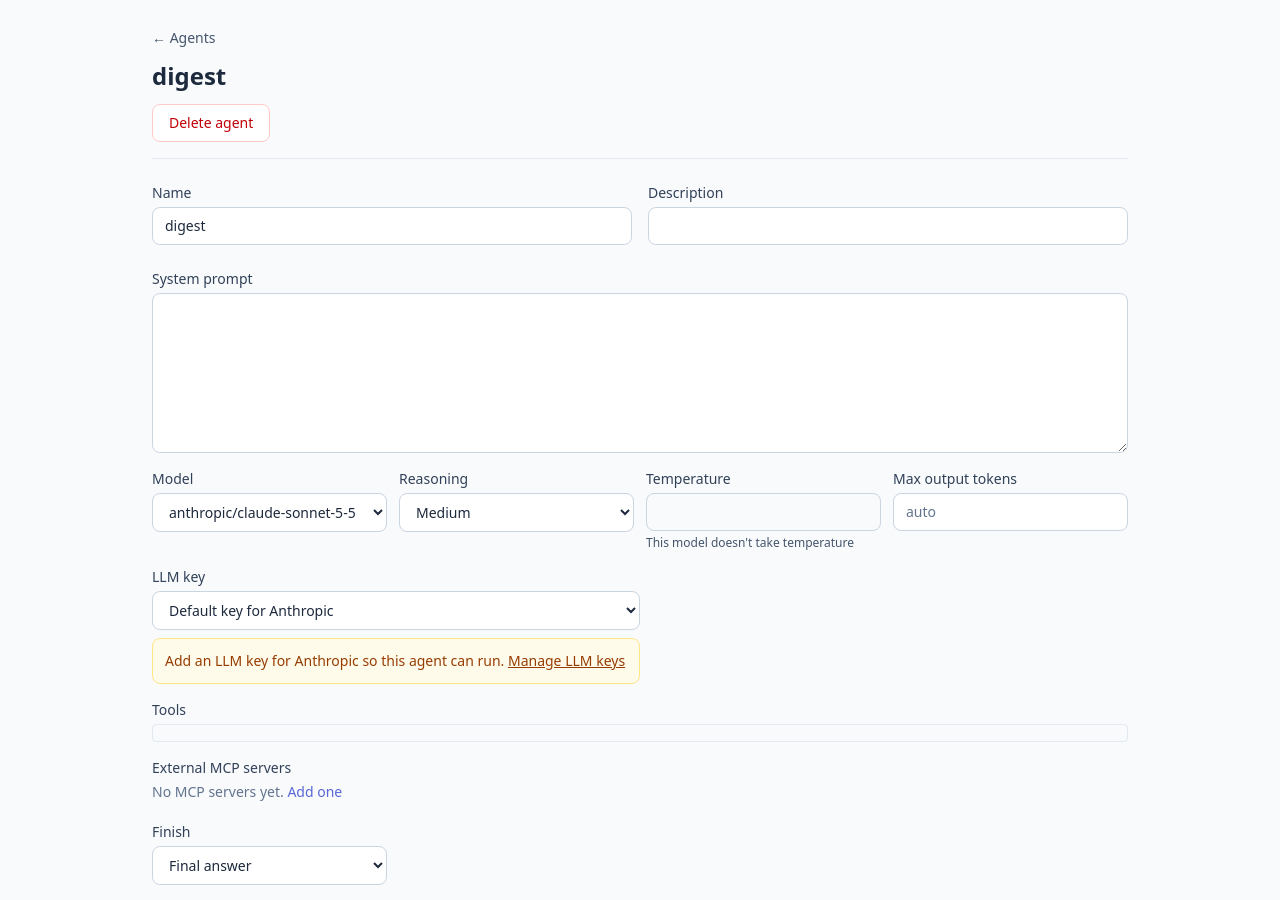
Test: AgentEditor › asks before leaving a dirty agent
Type "!" into the field labelled "Name" at (392, 226), box [152,207,632,245]
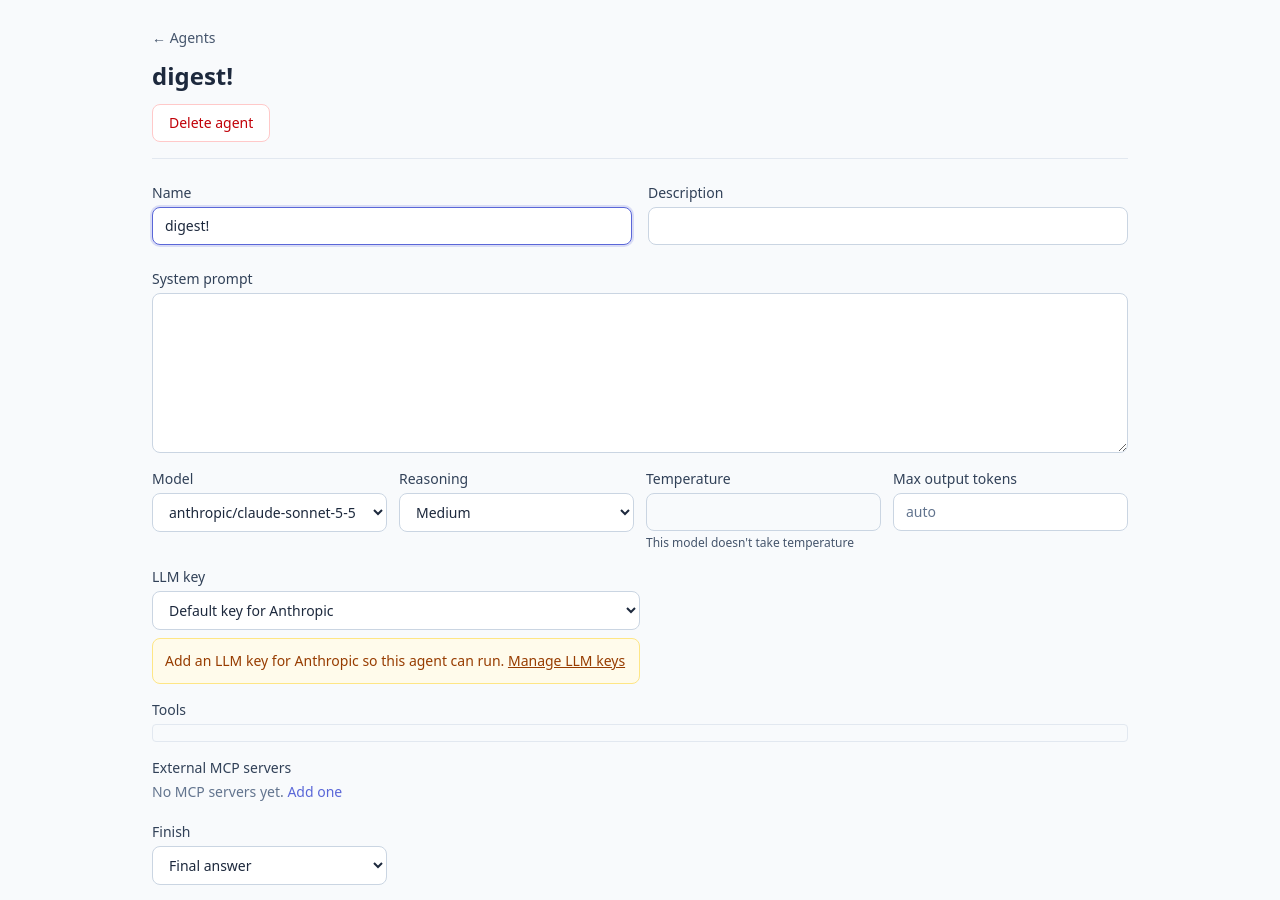
Click the link "← Agents" at (184, 38), box [152,28,216,48]
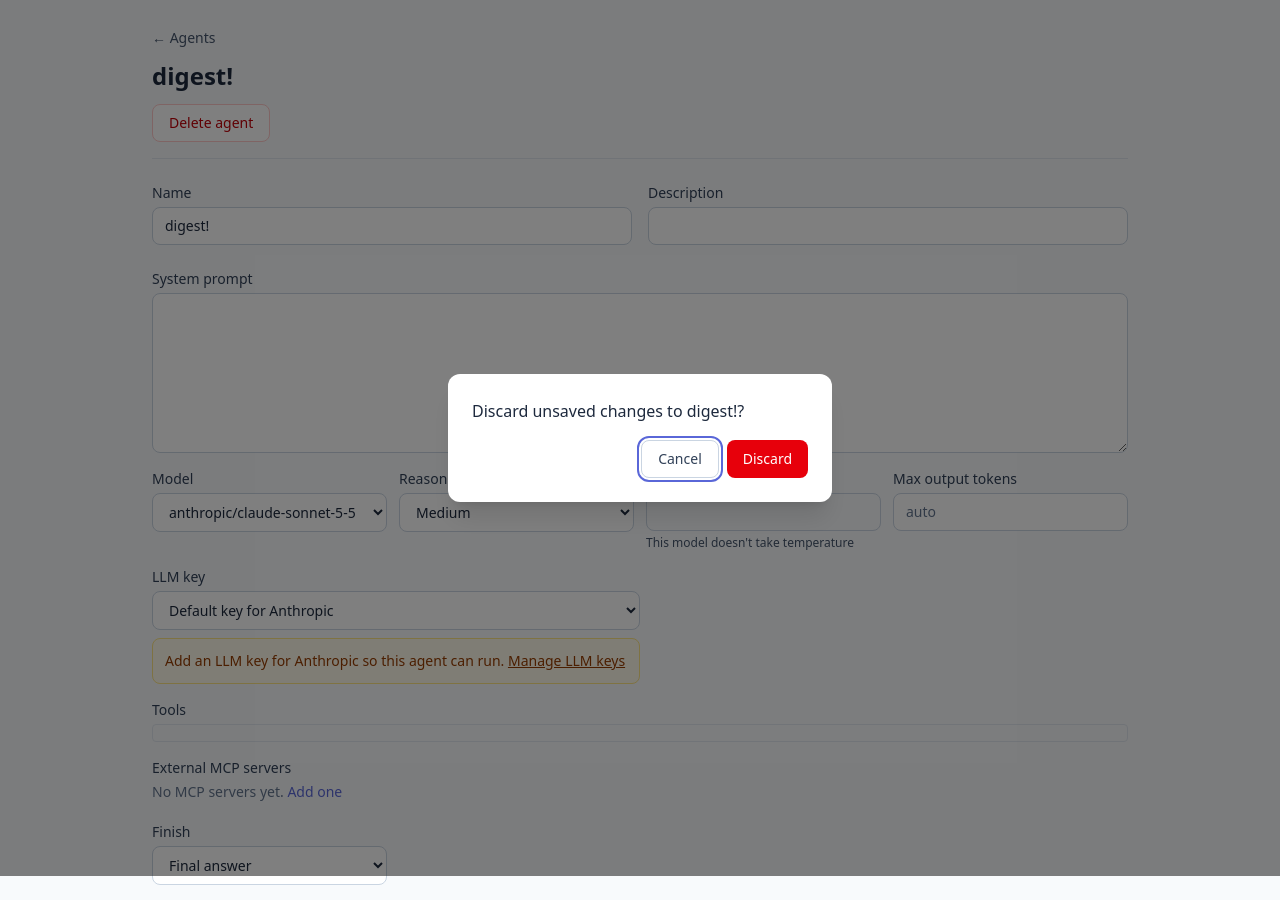
expect the text "Discard unsaved changes to digest!?" is shown: met, box [472,400,744,422]
